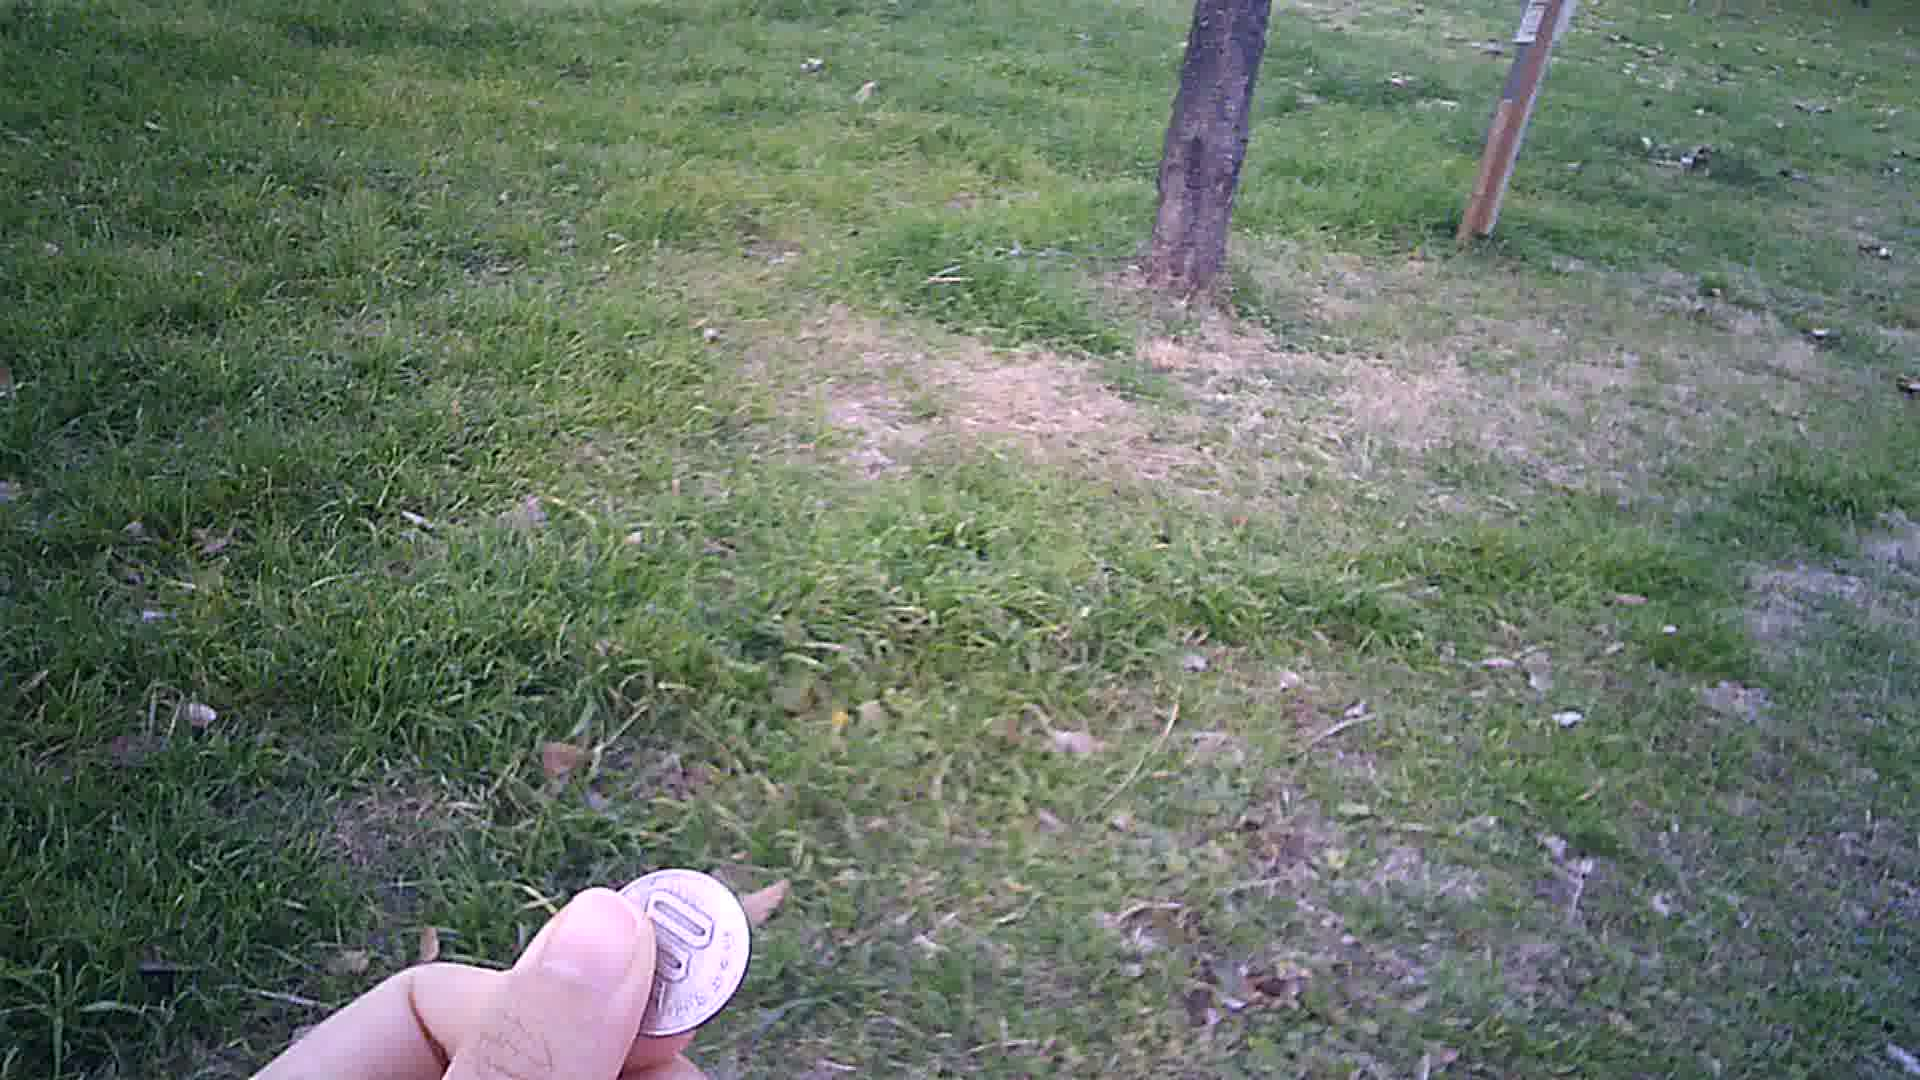100 Yen: (591, 860, 742, 1035)
